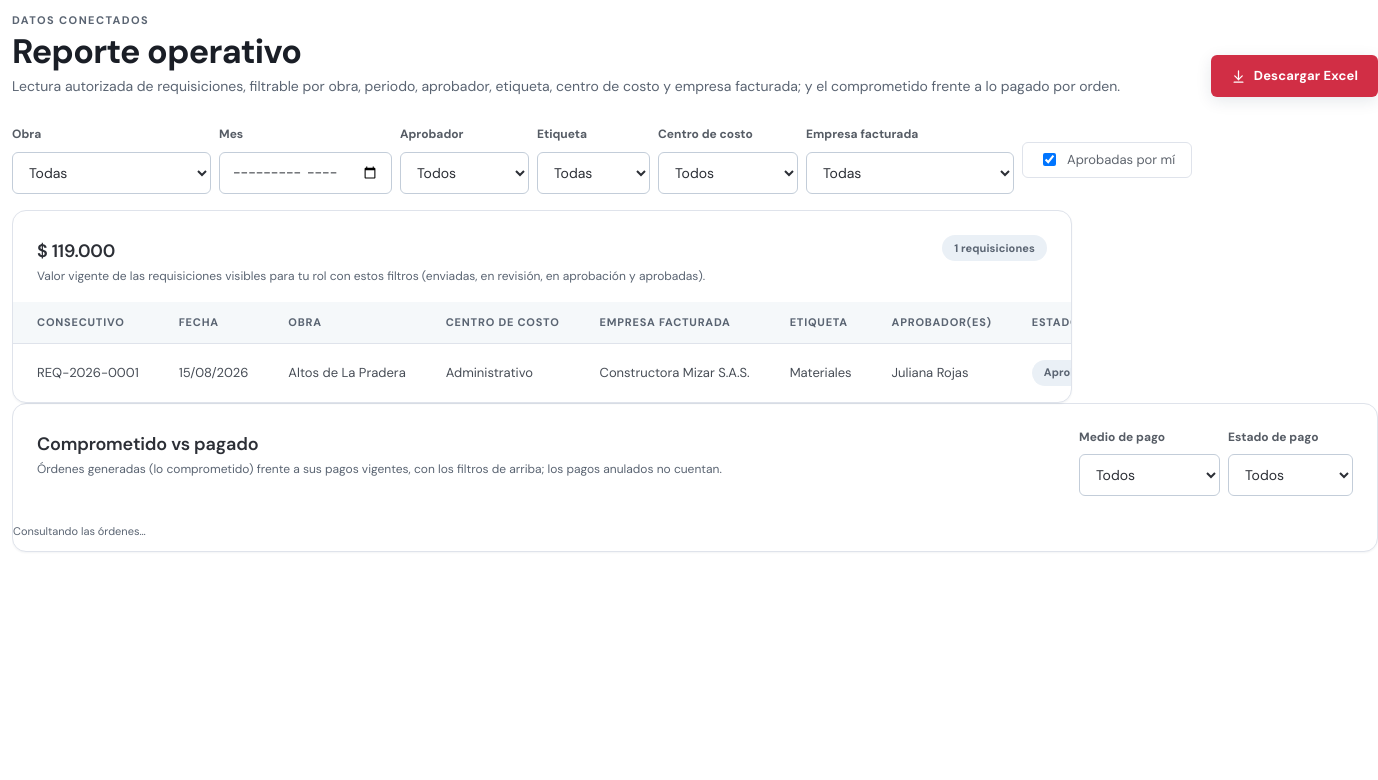
Test: RF-1301: filtros de Reportes mandan los parámetros correctos (pantalla + descarga) › un Aprobador ve 'Aprobadas por mí' marcado por defecto y solo requisiciones aprobadas
The image size is (1378, 780).
Expected: the text "REQ-2026-0001" is shown, x1=13 y1=343 x2=159 y2=402
Expected: the text "REQ-2026-0002" is not shown
Click the checkbox labelled "Aprobadas por mí": (1050, 160) x1=1043 y1=153 x2=1056 y2=166
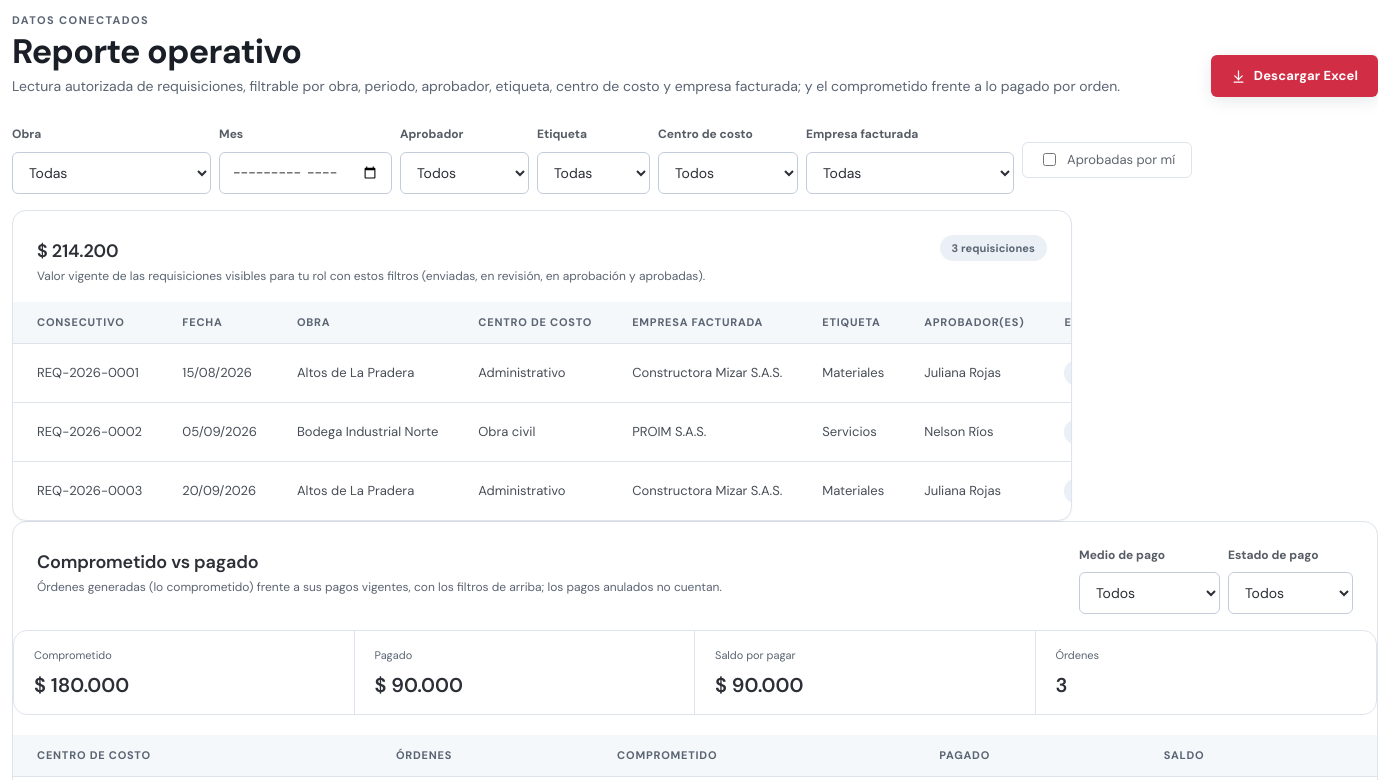
Now the text "REQ-2026-0003" is shown, box x1=13 y1=461 x2=162 y2=520
